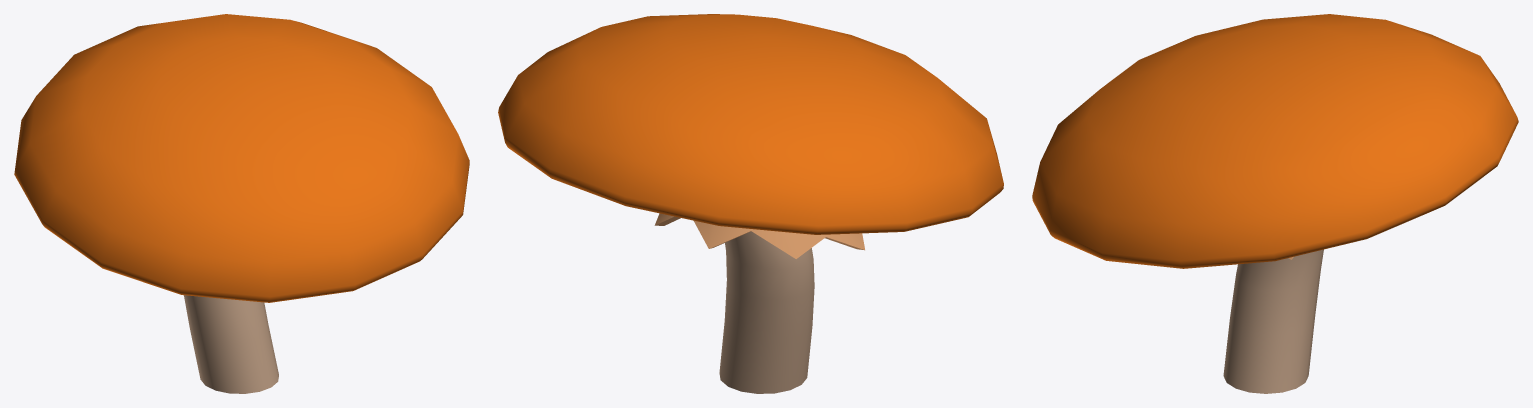
The model's file is Mashroom_02_3.fbx.
3 views of the same model, side by side, from view 1: azimuth 30°, elevation 25°; view 2: azimuth 150°, elevation 25°; view 3: azimuth 270°, elevation 25° (orthographic). The views are drawn at different scales.
Parts seen in each view (by area): view 1: Mashroom_02_3; view 2: Mashroom_02_3; view 3: Mashroom_02_3.
Part boxes in pixels (box(x1,y1,x2,y2)): Mashroom_02_3: box(14, 14, 469, 393); Mashroom_02_3: box(498, 14, 1003, 393); Mashroom_02_3: box(1032, 14, 1518, 393).
Size of the model in its own units: 141 by 104 by 139.
